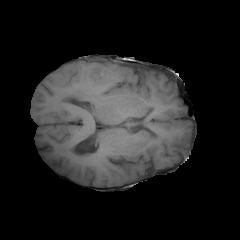glioma: (60, 68, 139, 133)
